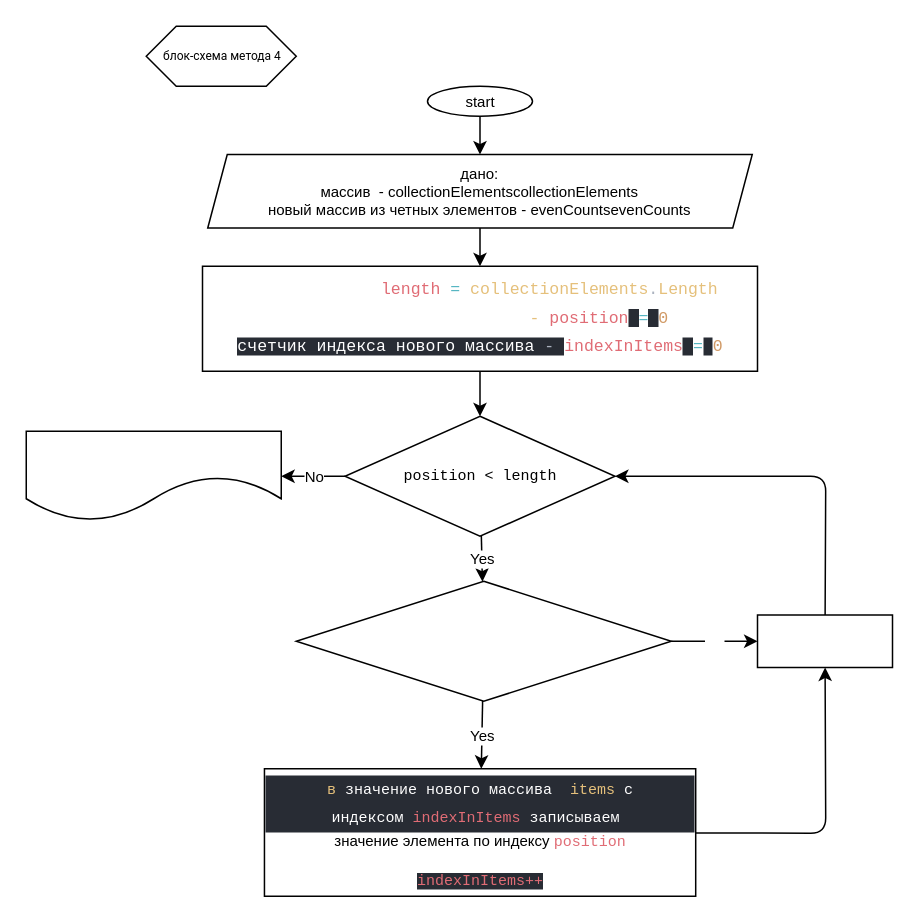
This 920x923 diagram has some shape labels left out. The shapes that lost their labels are listed below. From the top down, each one's centre as x and y in pixels, then its label:
point 153,475: return новый массив items
point 483,640: значение элемента по индексу position четное
point 824,641: position++
